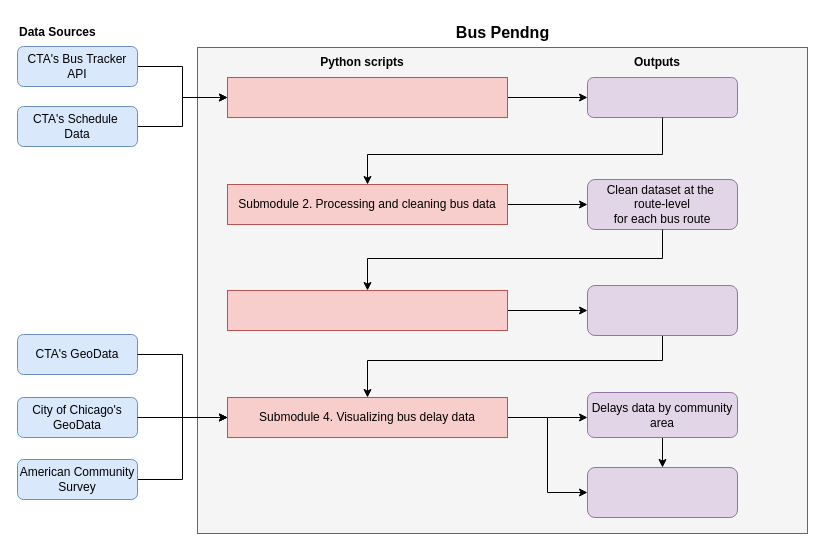
The diagram is 826 pixels wide and 551 high, and some of its shapes have lost their labels. Each missing label, with the centre of its shape:
Database of bus locations and schedules: pixel 662 97
Interactive/dynamic visualizations (geographic): pixel 662 492
Standardized route-level data: pixel 662 310
Submodule 1. Scraping bus data: pixel 367 97
Submodule 3. Analyzing delays data: pixel 367 310
